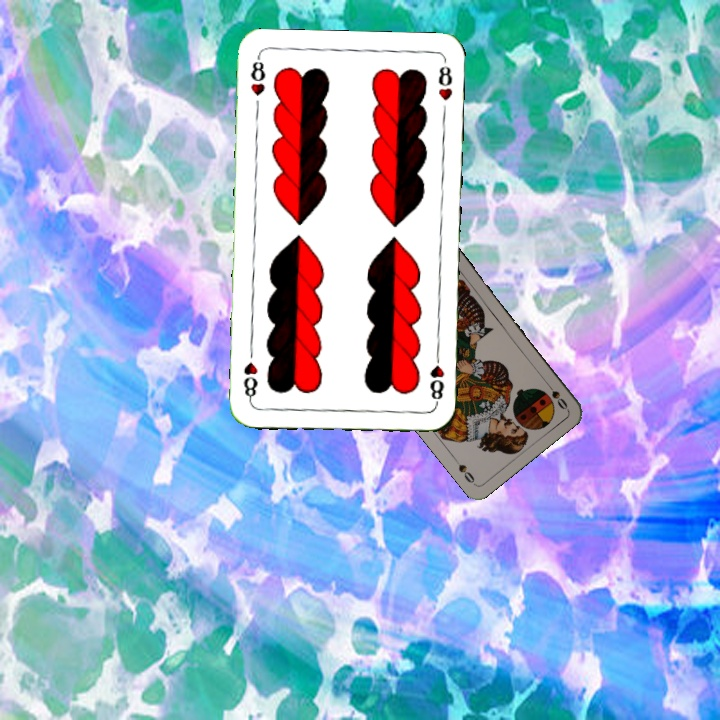H8: (426, 348, 447, 407), (247, 53, 268, 98)
SO: (541, 377, 570, 412)
